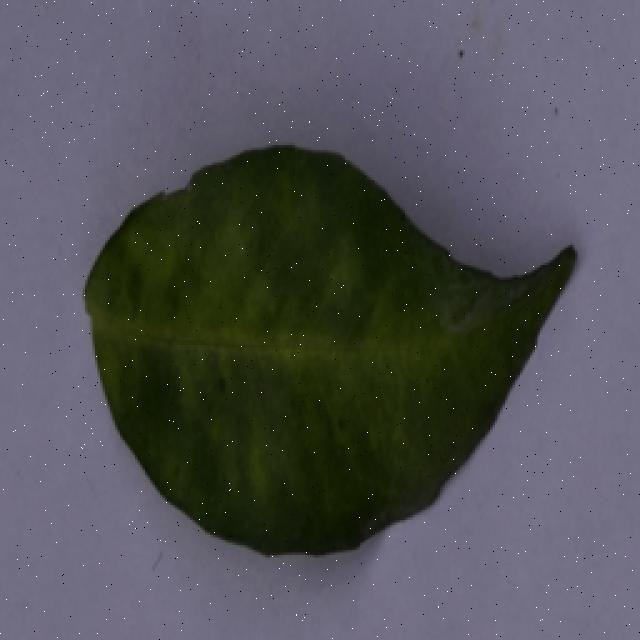greening: (82, 145, 574, 546)
